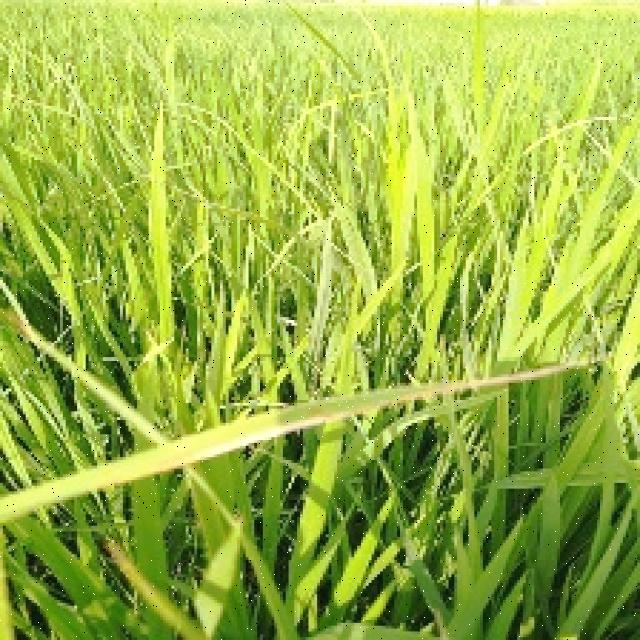unhealth: (0, 356, 601, 528)
